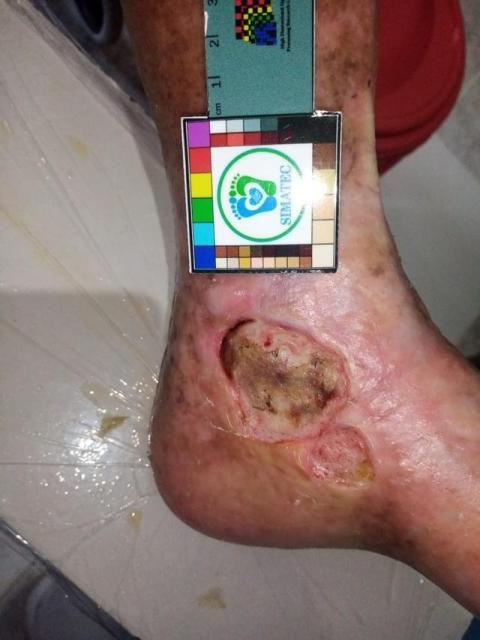wound: (213, 310, 378, 488)
